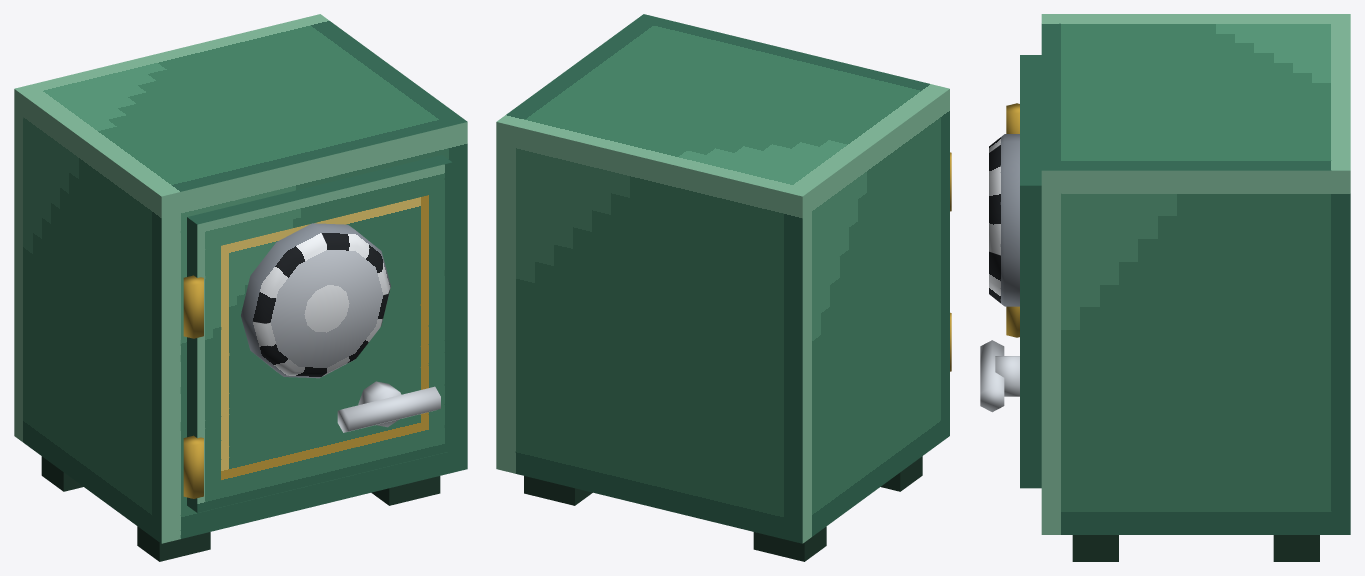
Rendered from money-safe.glb.
3 renders of one model, left to right at view 1: azimuth 30°, elevation 25°; view 2: azimuth 150°, elevation 25°; view 3: azimuth 270°, elevation 25°, orthographic. The views are drawn at different scales.
Visible parts, largest first — view 1: money.safe; view 2: money.safe; view 3: money.safe.
Part boxes in pixels (box(x1,y1,x2,y2)): money.safe: box(14, 14, 467, 561); money.safe: box(496, 14, 951, 561); money.safe: box(980, 14, 1350, 561).
Bounding box in the file's own units: 1.08 × 1.28 × 1.08.
Materials: 7 (3 with a texture image).
